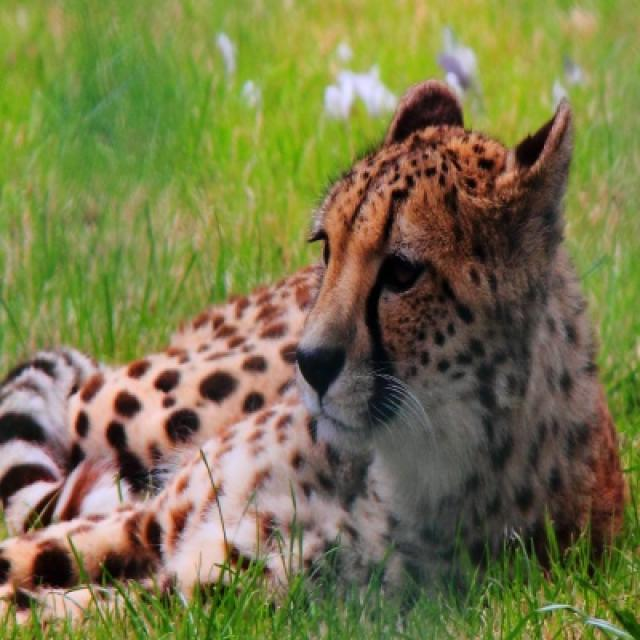Cheetah: (0, 82, 626, 595)
